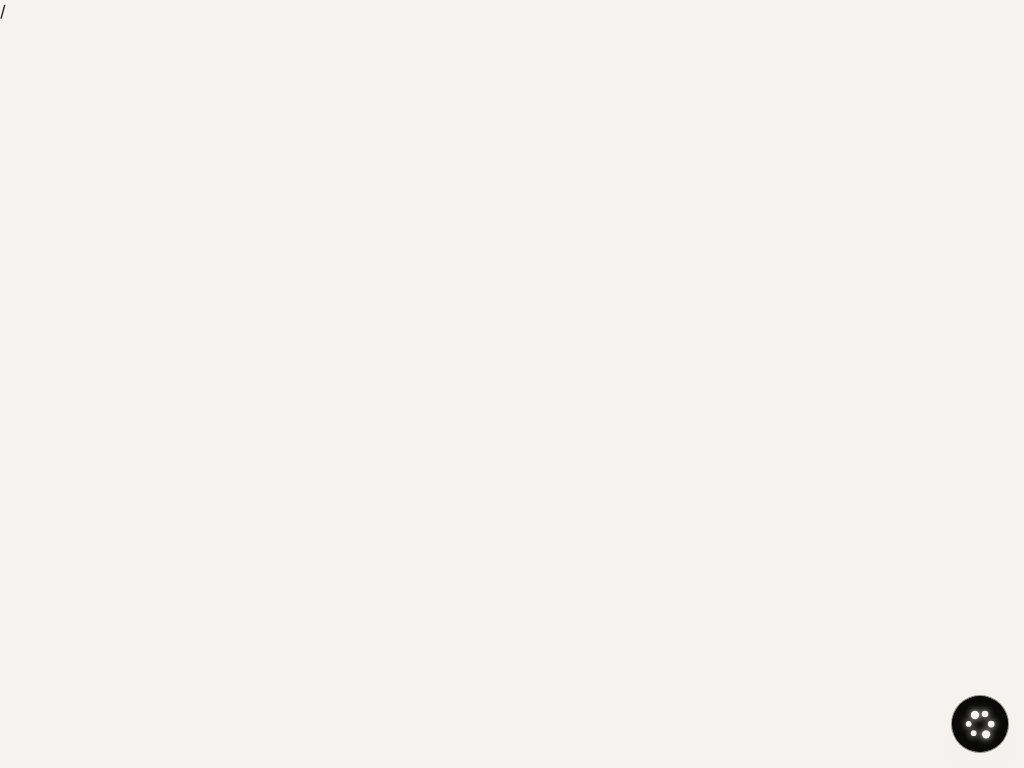
Test: Asistente › manda la pregunta, muestra la respuesta con negritas y listas, y el botón lleva a la pantalla
This screenshot has width=1024, height=768.
Click the button named "Abrir el asistente" at [980, 724], box [952, 696, 1008, 752]
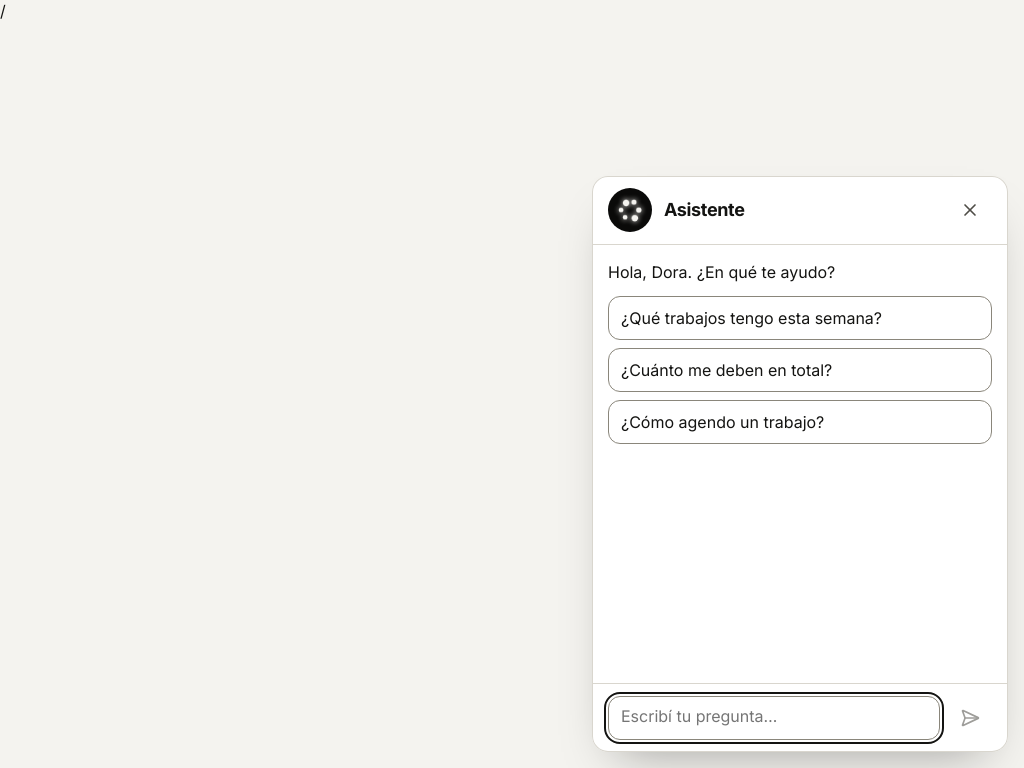
Type "¿qué tengo esta semana?" into the text box named "Escribile al asistente" at [774, 718], box [608, 696, 940, 740]
Then press Enter
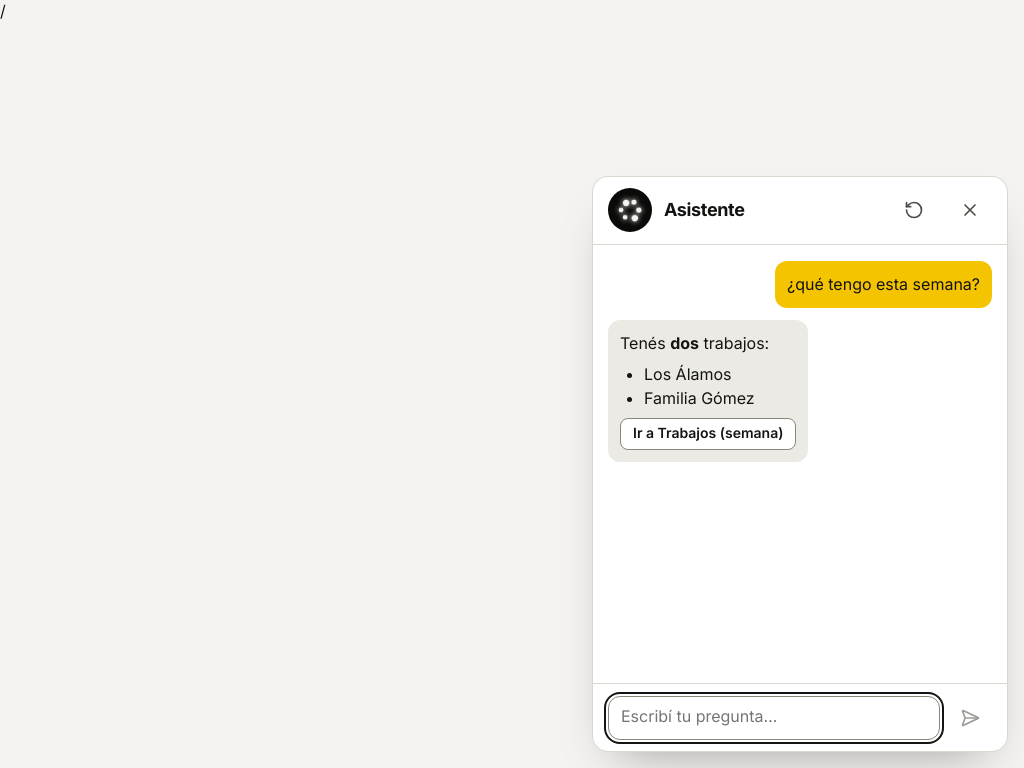
expect the list items read "Los Álamos", "Familia Gómez", in this order: met, box [644, 364, 732, 384]; [644, 388, 755, 408]
Click the button "Ir a Trabajos (semana)" at [708, 434], box [620, 418, 796, 450]
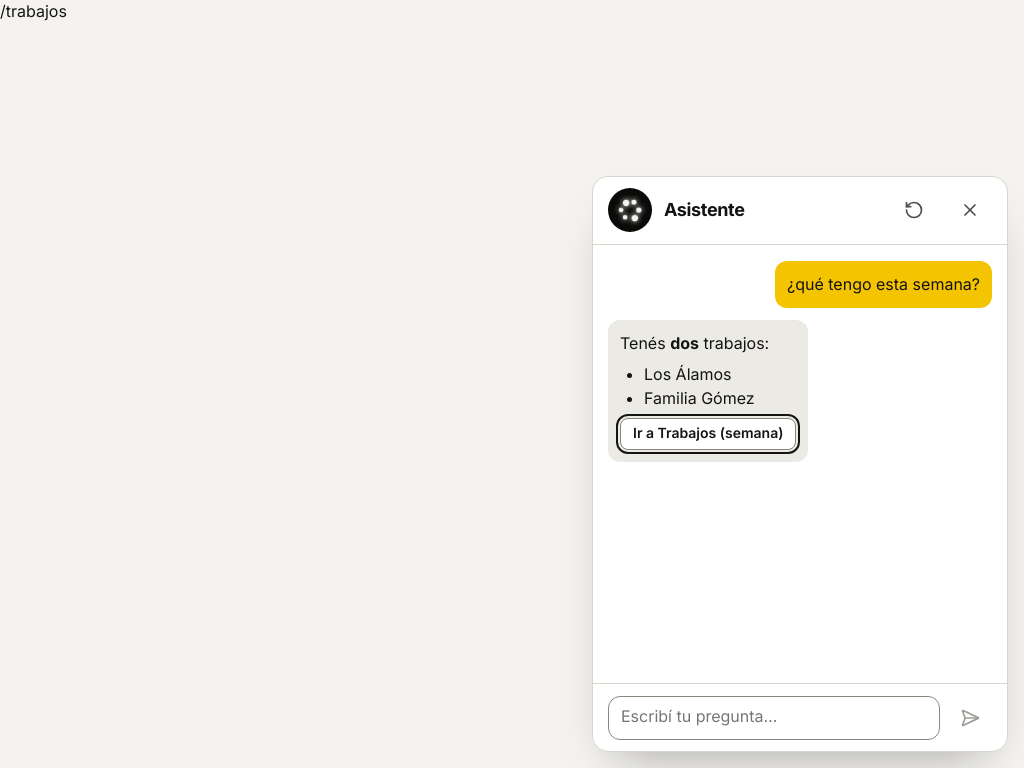
expect the text with test id "ruta" reads "/trabajos": met, box [0, 1, 67, 21]
